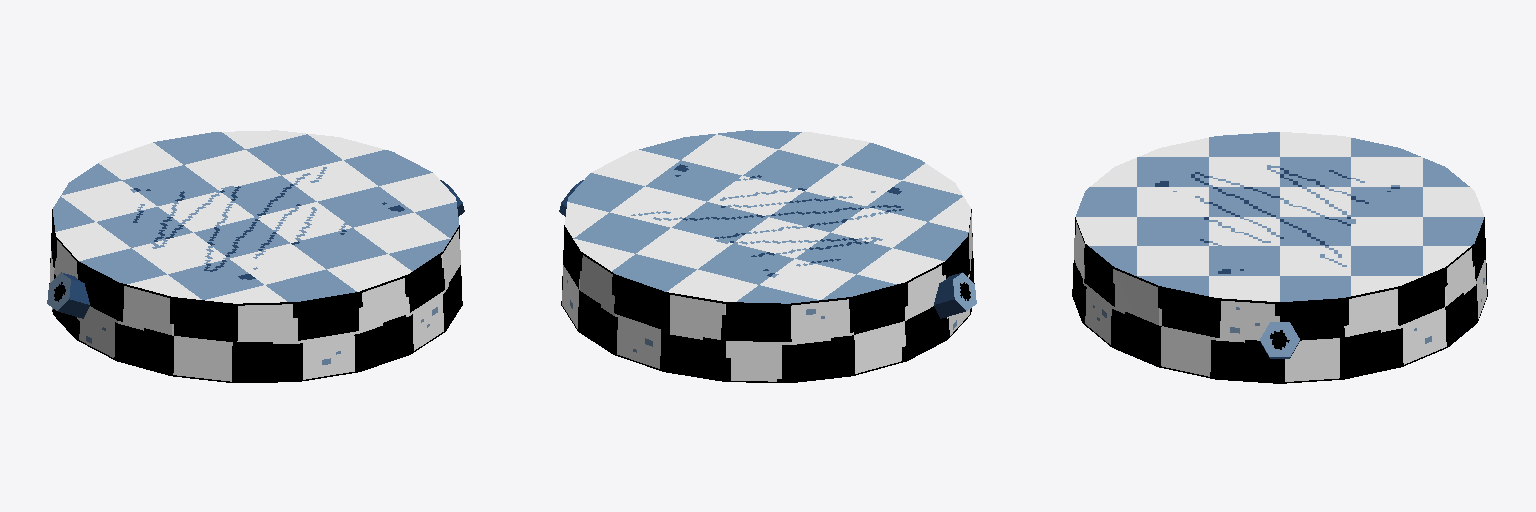
3 views of the same model, side by side, from view 1: azimuth 30°, elevation 25°; view 2: azimuth 150°, elevation 25°; view 3: azimuth 270°, elevation 25° (orthographic).
Parts seen in each view (by area): view 1: Cylinder; view 2: Cylinder; view 3: Cylinder.
Part boxes in pixels (bbox=[...]): Cylinder: bbox=[47, 130, 464, 382]; Cylinder: bbox=[559, 130, 976, 382]; Cylinder: bbox=[1072, 132, 1487, 383].
Bounding box in the file's own units: 2.26 × 0.4262 × 2.
1 materials, 1 textured.